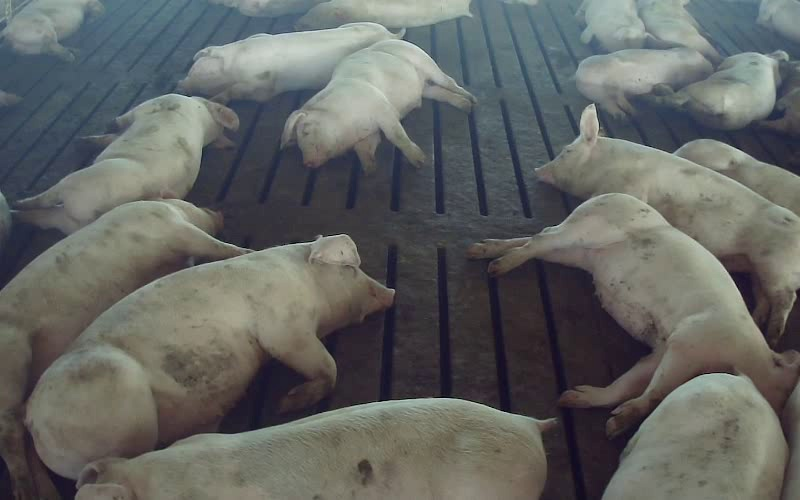pig: (26, 235, 393, 477), (469, 193, 799, 436), (537, 104, 799, 346), (76, 399, 554, 499), (14, 94, 238, 233), (281, 40, 476, 171), (602, 373, 787, 499), (177, 22, 401, 103), (647, 50, 788, 129), (674, 139, 799, 216), (575, 48, 712, 117)
